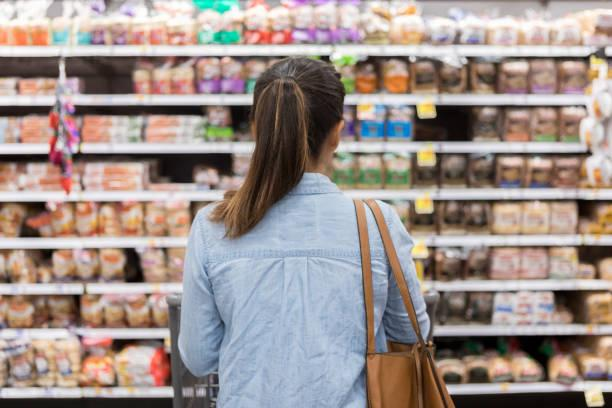article: (57, 338, 80, 386), (244, 0, 269, 43), (511, 352, 542, 381), (492, 203, 520, 233), (385, 154, 408, 187), (76, 203, 97, 235), (172, 66, 194, 93)
bag: (354, 199, 454, 407)
